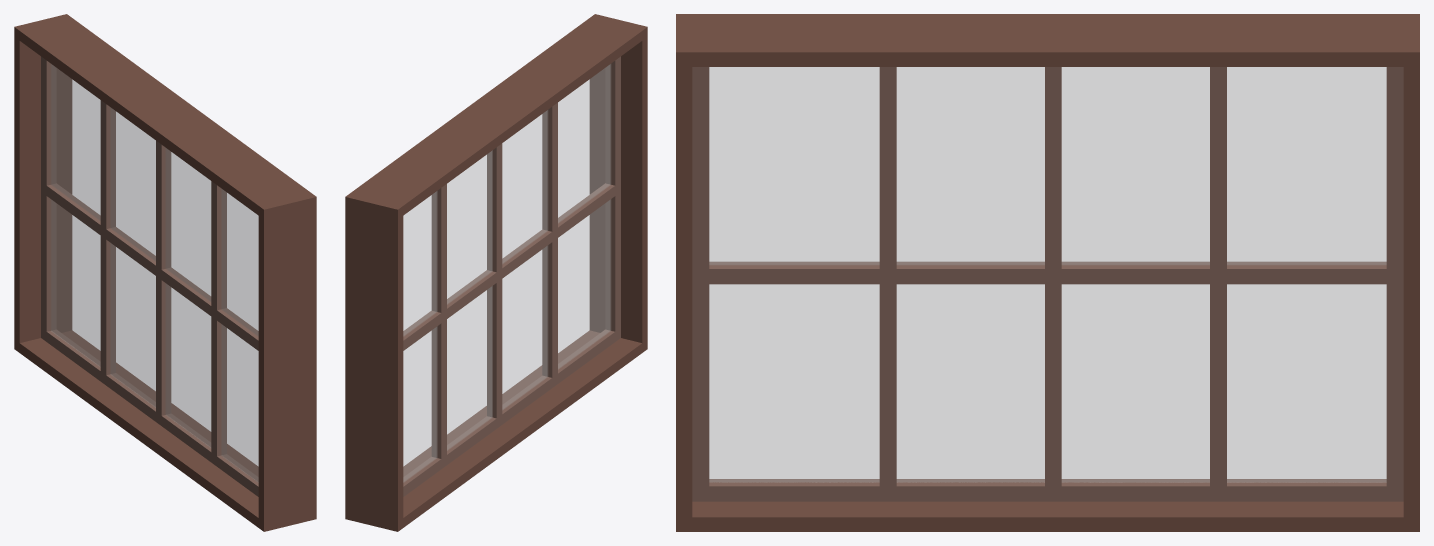
Rendered from Window04.fbx.
3 views of the same model, side by side, from view 1: azimuth 30°, elevation 25°; view 2: azimuth 150°, elevation 25°; view 3: azimuth 270°, elevation 25° (orthographic). The views are drawn at different scales.
Parts seen in each view (by area): view 1: Wall05Window01; view 2: Wall05Window01; view 3: Wall05Window01.
Boxes of the visible parts, x1=… form: Wall05Window01: x1=14, y1=14, x2=316, y2=531; Wall05Window01: x1=345, y1=14, x2=647, y2=531; Wall05Window01: x1=676, y1=14, x2=1419, y2=531.
Size of the model in its own units: 0.2672 by 2.19 by 1.56.
